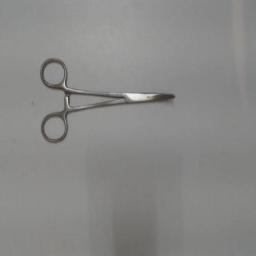Crile Artery Forceps: (38, 49, 180, 145)
